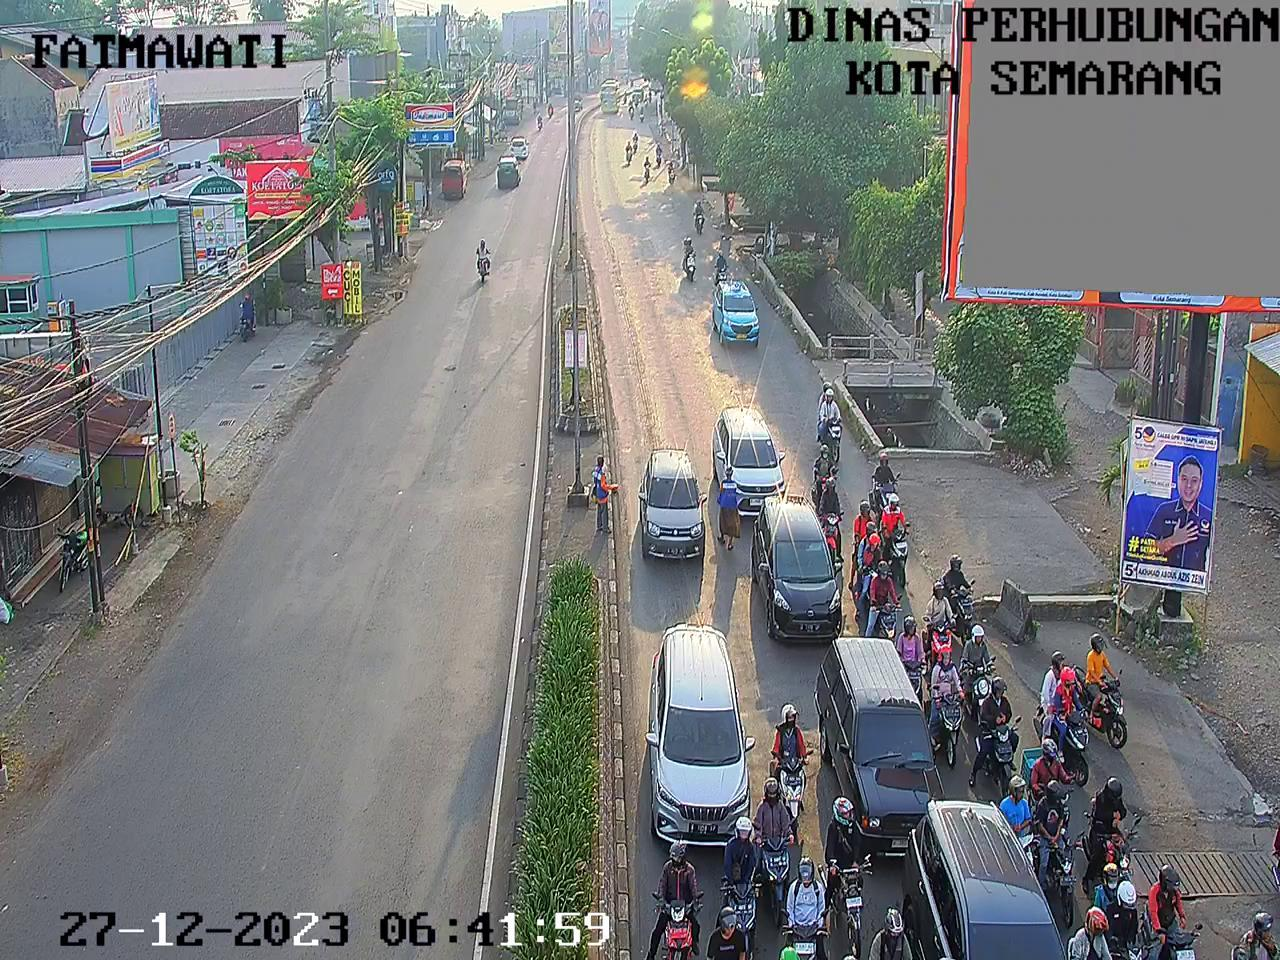bus: (599, 81, 619, 117)
car: (900, 801, 1086, 960), (825, 628, 957, 845), (636, 620, 754, 843), (752, 503, 843, 641), (706, 407, 800, 509), (637, 445, 703, 577), (708, 275, 776, 369), (630, 86, 646, 102)
motorcycle: (1034, 655, 1101, 785), (1091, 788, 1172, 891), (1075, 635, 1145, 756), (1036, 779, 1093, 919), (628, 852, 699, 960), (712, 812, 778, 925), (971, 672, 1032, 786), (1148, 868, 1218, 960), (924, 643, 976, 764), (768, 692, 819, 812), (1020, 737, 1089, 825), (830, 795, 874, 924), (1096, 880, 1155, 960), (756, 787, 794, 899), (963, 616, 1011, 701), (918, 584, 963, 676), (783, 860, 826, 948), (883, 492, 930, 572), (862, 566, 909, 641), (946, 551, 988, 630), (867, 445, 918, 508), (847, 511, 887, 586), (816, 480, 850, 566), (674, 233, 711, 308), (803, 453, 848, 509), (1244, 892, 1280, 960), (876, 917, 930, 960), (892, 617, 923, 689), (811, 382, 848, 442), (706, 914, 752, 960), (1069, 910, 1113, 958), (712, 253, 750, 293), (663, 153, 687, 194), (692, 203, 716, 241), (615, 135, 636, 167), (640, 156, 660, 189), (631, 131, 650, 157), (652, 143, 668, 170), (626, 103, 637, 125), (638, 105, 649, 122), (646, 89, 655, 102), (622, 91, 630, 105), (642, 97, 651, 109)
